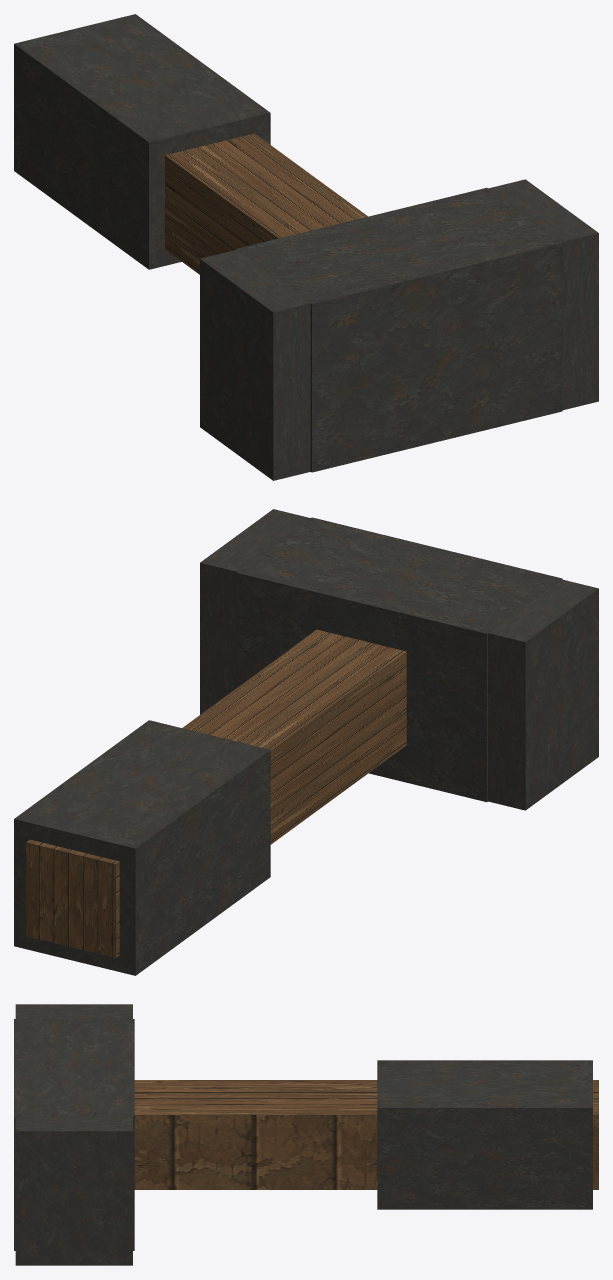
Rendered from ITM_HAMMER_001.obj.
The picture shows the model from 3 angles, top to bottom: view 1: azimuth 30°, elevation 25°; view 2: azimuth 150°, elevation 25°; view 3: azimuth 270°, elevation 25°; orthographic projection. The views are drawn at different scales.
Parts seen in each view (by area): view 1: head_core, grip_swell, contact_face_left, handle_core, contact_face_right; view 2: head_core, grip_swell, handle_core, contact_face_left, contact_face_right; view 3: grip_swell, handle_core, contact_face_right, head_core, contact_face_left.
Part boxes in pixels (left/top/right/bottom): head_core: left=236, top=187, right=562, bottom=472; grip_swell: left=14, top=14, right=270, bottom=269; contact_face_left: left=200, top=249, right=310, bottom=480; handle_core: left=165, top=133, right=367, bottom=274; contact_face_right: left=488, top=179, right=598, bottom=410; head_core: left=236, top=517, right=562, bottom=802; grip_swell: left=14, top=720, right=270, bottom=975; handle_core: left=26, top=629, right=406, bottom=957; contact_face_left: left=488, top=579, right=598, bottom=810; contact_face_right: left=200, top=509, right=310, bottom=714; grip_swell: left=377, top=1060, right=592, bottom=1209; handle_core: left=134, top=1080, right=598, bottom=1189; contact_face_right: left=15, top=1116, right=132, bottom=1265; head_core: left=14, top=1019, right=134, bottom=1250; contact_face_left: left=15, top=1004, right=132, bottom=1018.
Size of the model in its own units: 0.174 by 0.09 by 0.339.
4 materials, 4 textured.
